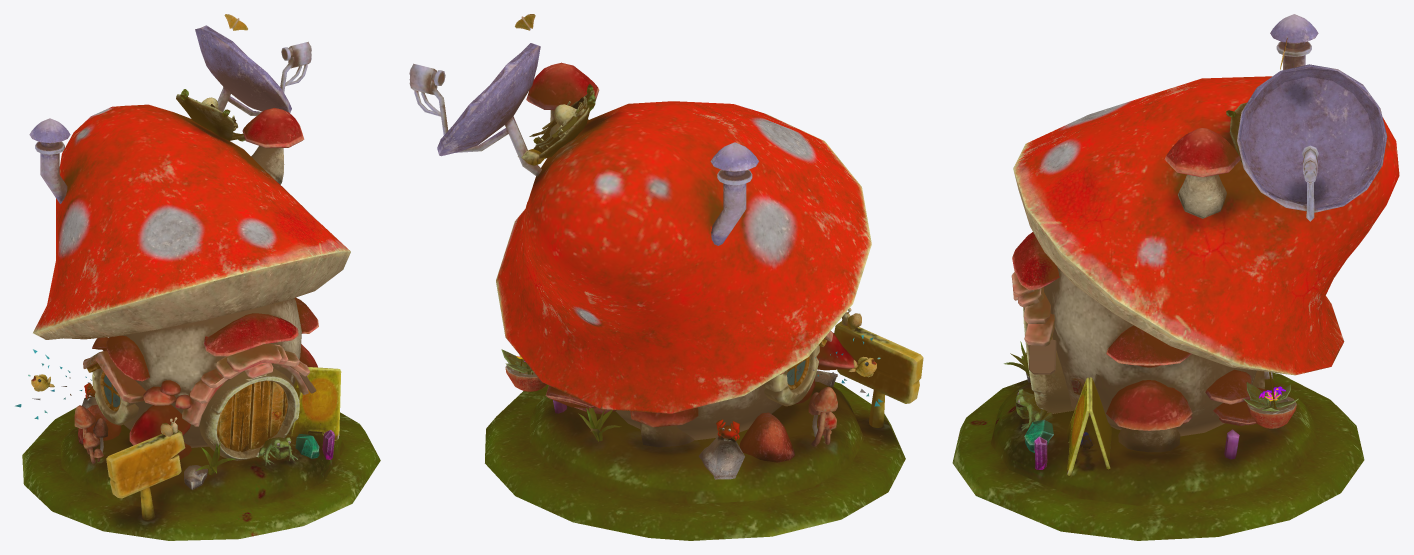
The model's file is mushroomhouse_test2.glb.
3 views of the same model, side by side, from view 1: azimuth 30°, elevation 25°; view 2: azimuth 150°, elevation 25°; view 3: azimuth 270°, elevation 25° (orthographic). The views are drawn at different scales.
Parts seen in each view (by area): view 1: lp_Cube.006; view 2: lp_Cube.006; view 3: lp_Cube.006.
Boxes of the visible parts, bbox=[...] form: lp_Cube.006: bbox=[15, 14, 380, 540]; lp_Cube.006: bbox=[409, 14, 923, 540]; lp_Cube.006: bbox=[952, 14, 1399, 540].
Size of the model in its own units: 9.79 by 10.64 by 9.3.
Materials: 1 (1 with a texture image).
